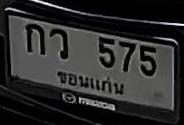number: (20, 18, 159, 78)
province: (52, 68, 126, 98)
